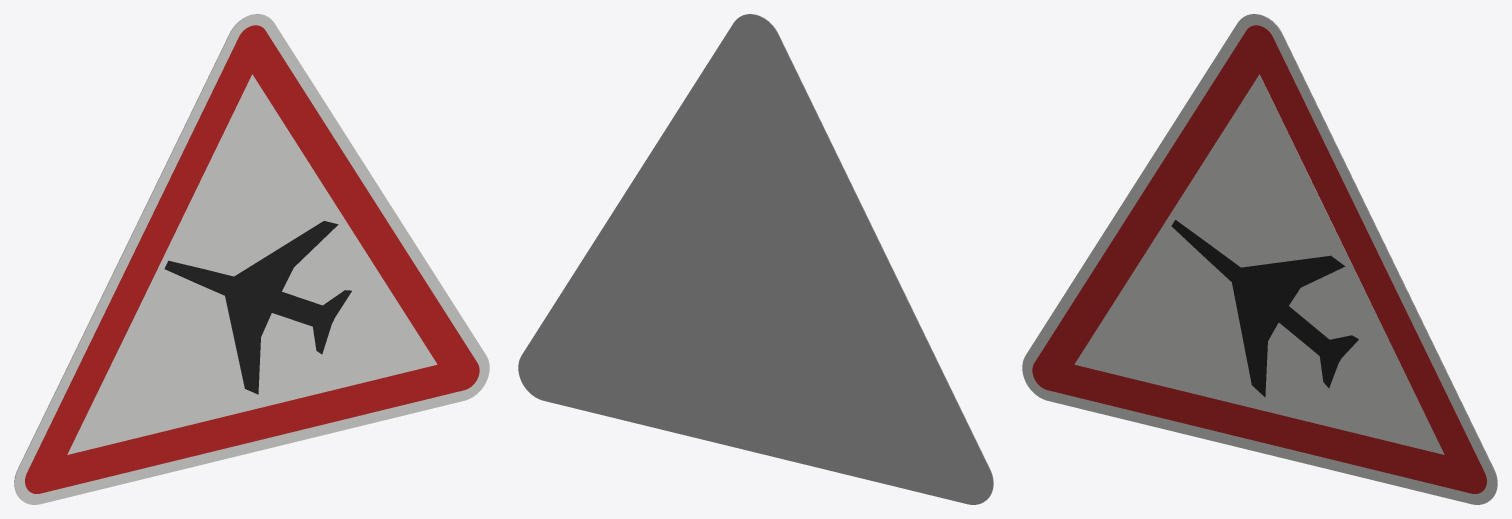
The picture shows the model from 3 angles, left to right: view 1: azimuth 30°, elevation 25°; view 2: azimuth 150°, elevation 25°; view 3: azimuth 330°, elevation 25°; orthographic projection.
Visible parts, largest first — view 1: A23_p02, A23_p01, A23_p00, A23_p03, A23_dos; view 2: A23_dos, A23_p00; view 3: A23_p02, A23_p01, A23_p00, A23_p03, A23_dos.
Boxes of the visible parts, x1=… form: A23_p02: x1=67, y1=74, x2=437, y2=454; A23_p01: x1=25, y1=25, x2=479, y2=493; A23_p00: x1=14, y1=14, x2=489, y2=504; A23_p03: x1=164, y1=221, x2=351, y2=394; A23_dos: x1=14, y1=14, x2=265, y2=500; A23_dos: x1=518, y1=14, x2=993, y2=504; A23_p00: x1=742, y1=14, x2=993, y2=500; A23_p02: x1=1074, y1=74, x2=1444, y2=454; A23_p01: x1=1032, y1=25, x2=1486, y2=493; A23_p00: x1=1022, y1=14, x2=1497, y2=504; A23_p03: x1=1171, y1=220, x2=1358, y2=397; A23_dos: x1=1246, y1=14, x2=1497, y2=500.
Bounding box in the file's own units: 1 × 0.8803 × 0.0031.
